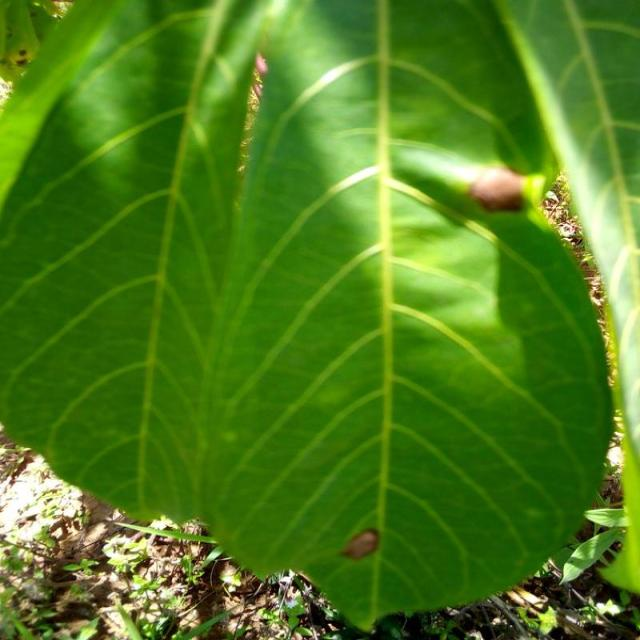cassava leaf: (2, 0, 625, 631)
